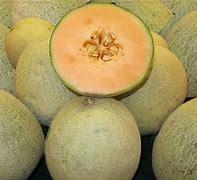Melon Ripe: (51, 4, 154, 99)
